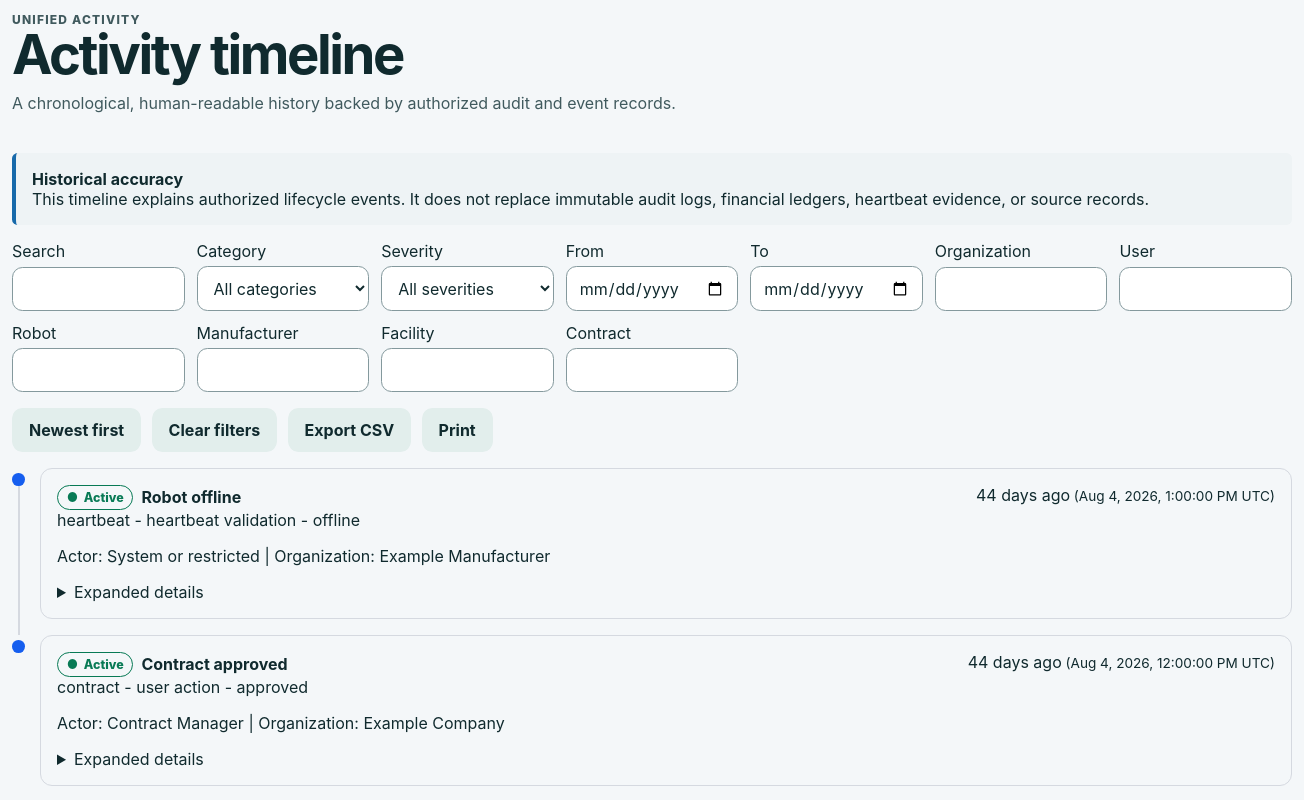
Test: Appendix O unified activity timeline › filters by search
The image size is (1304, 800).
In the field named "Search activity": (98, 289) left=12, top=267, right=185, bottom=311, type "offline"
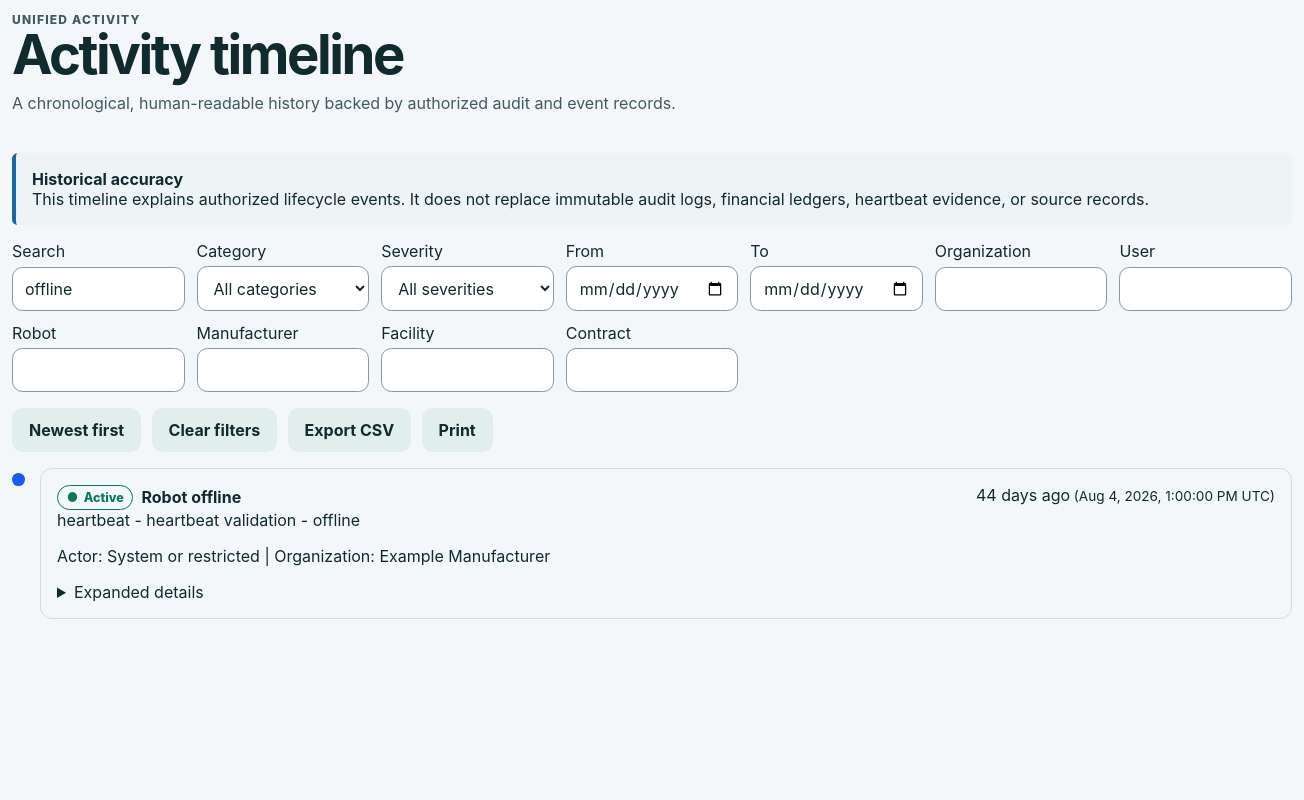
Expected: the text "Robot offline" is shown, left=142, top=487, right=241, bottom=507
Expected: the text "Contract approved" is gone
